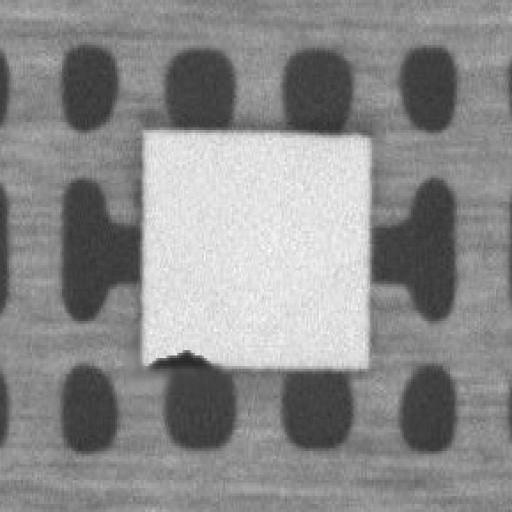DIE_BROKEN: (142, 340, 223, 366)
